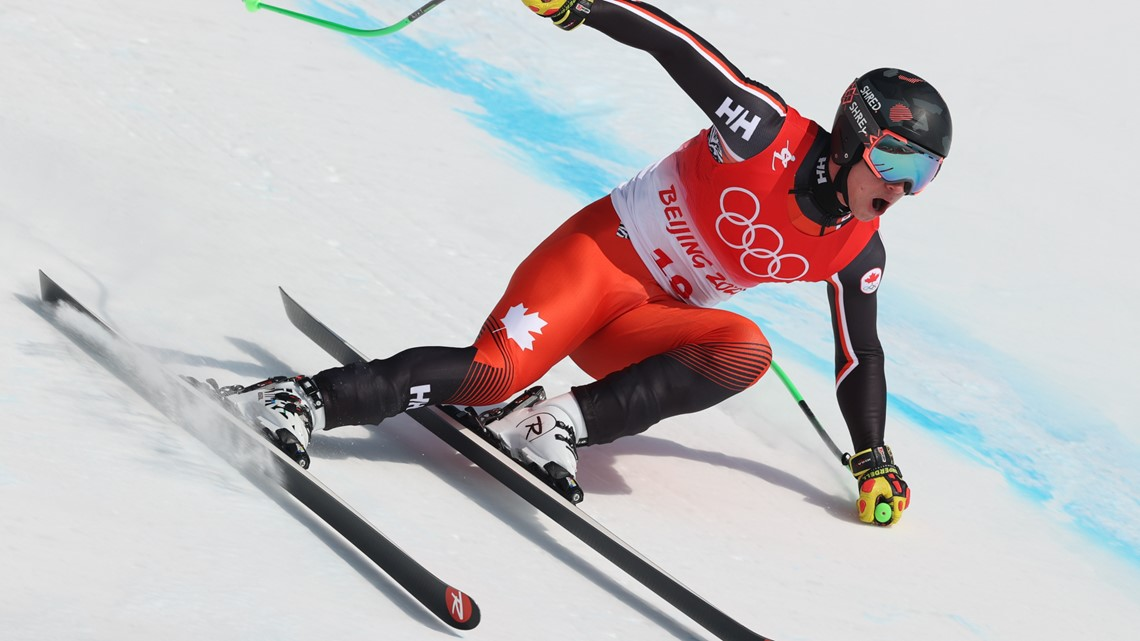skier: (33, 7, 1021, 641)
